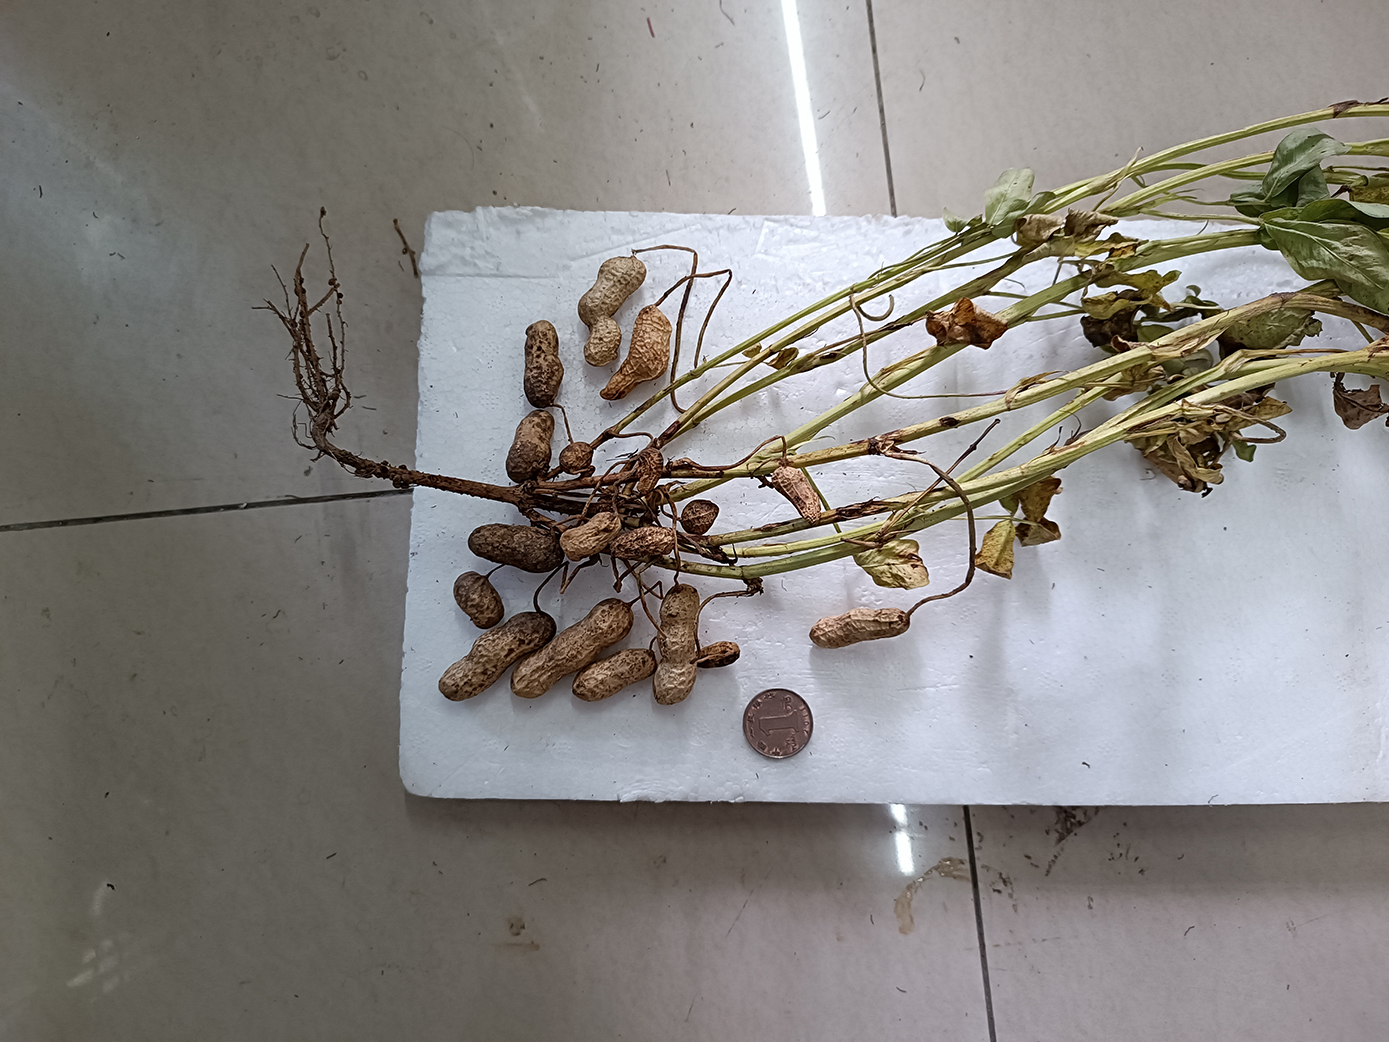h: (510, 599, 634, 698), (437, 611, 558, 703), (597, 305, 671, 402), (577, 255, 640, 367), (653, 584, 701, 705), (574, 648, 658, 701), (810, 607, 910, 650), (503, 410, 554, 482), (522, 320, 563, 407), (559, 510, 620, 563), (773, 464, 822, 526), (607, 526, 678, 561), (681, 499, 720, 534), (558, 443, 597, 477), (637, 448, 663, 495), (696, 641, 742, 668)
l: (466, 522, 562, 575), (454, 571, 506, 630)
